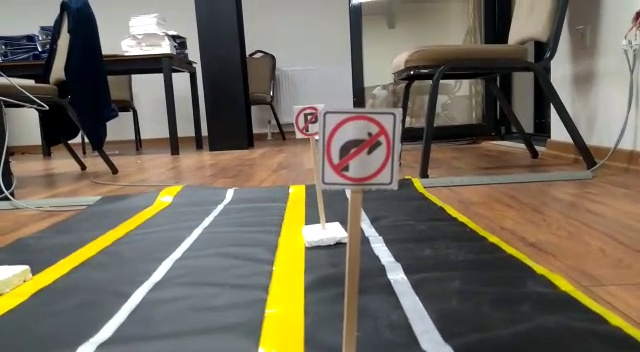park_yapilmaz: (295, 106, 320, 136)
saga_donulmez: (324, 110, 396, 186)
